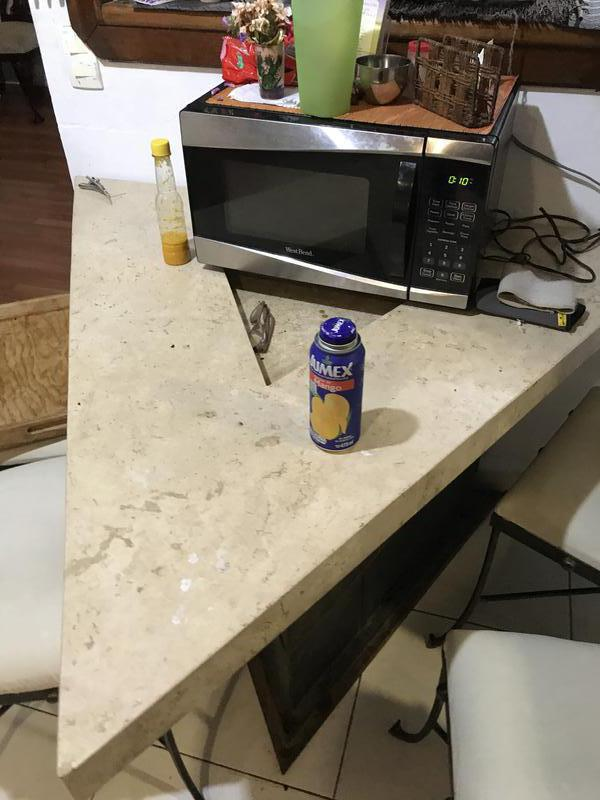jugo_jumex: (309, 318, 365, 452)
